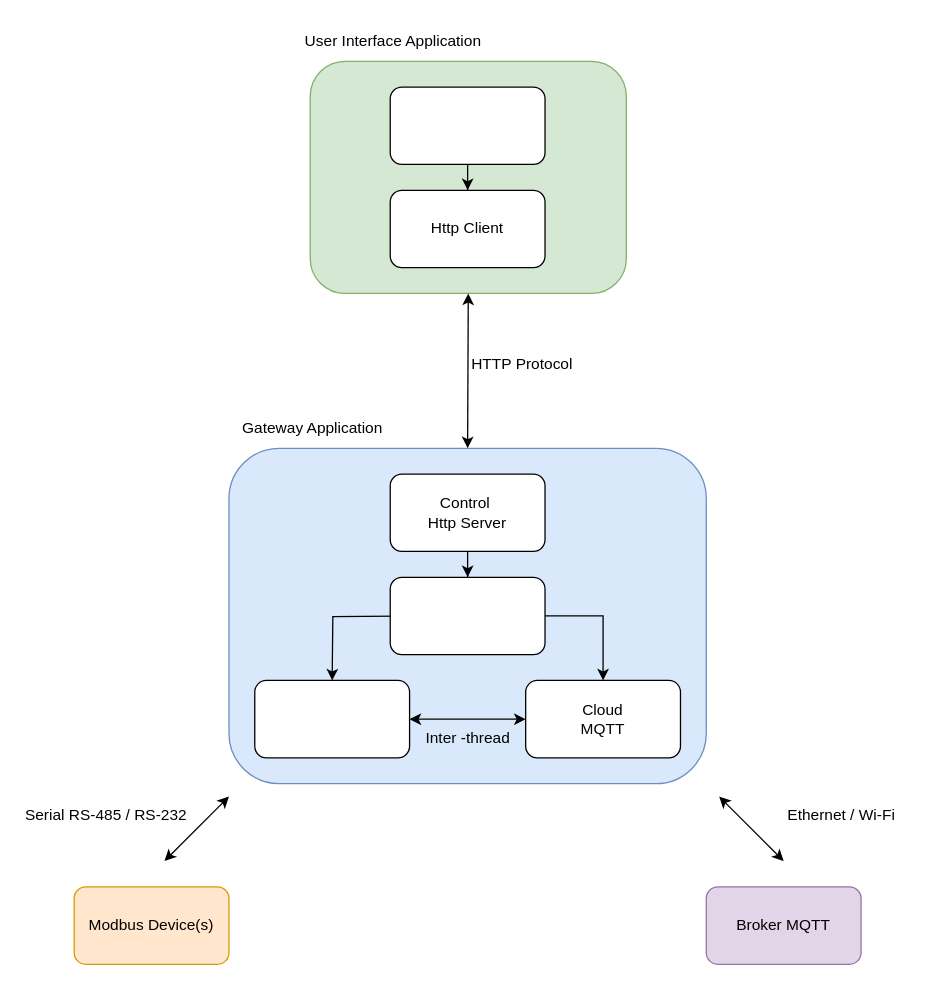
This 947x987 diagram has some shape labels left out. The shapes that lost their labels are listed below. From the top down, each one's box as (x1, y1, x2, y2) in pixels, then its label:
(389, 86, 545, 164): UI Interface
(389, 576, 545, 655): Gateway
(253, 679, 410, 758): Edge Modbus RTU
